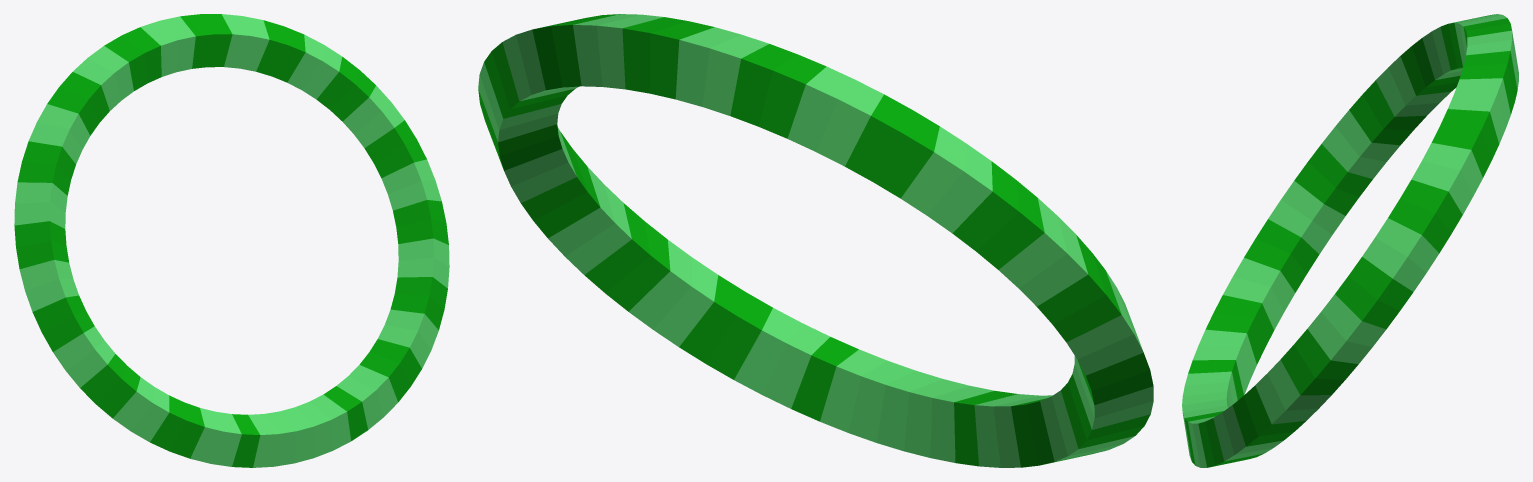
File: GreenRing.fbx
3 renders of one model, left to right at view 1: azimuth 30°, elevation 25°; view 2: azimuth 150°, elevation 25°; view 3: azimuth 270°, elevation 25°, orthographic. The views are drawn at different scales.
Parts seen in each view (by area): view 1: Torus.002; view 2: Torus.002; view 3: Torus.002.
Boxes of the visible parts, x1,y1,x2,y2 form: Torus.002: (14, 14, 449, 467); Torus.002: (478, 14, 1153, 467); Torus.002: (1182, 14, 1518, 467).
Bounding box in the file's own units: 597 × 482 × 369.
